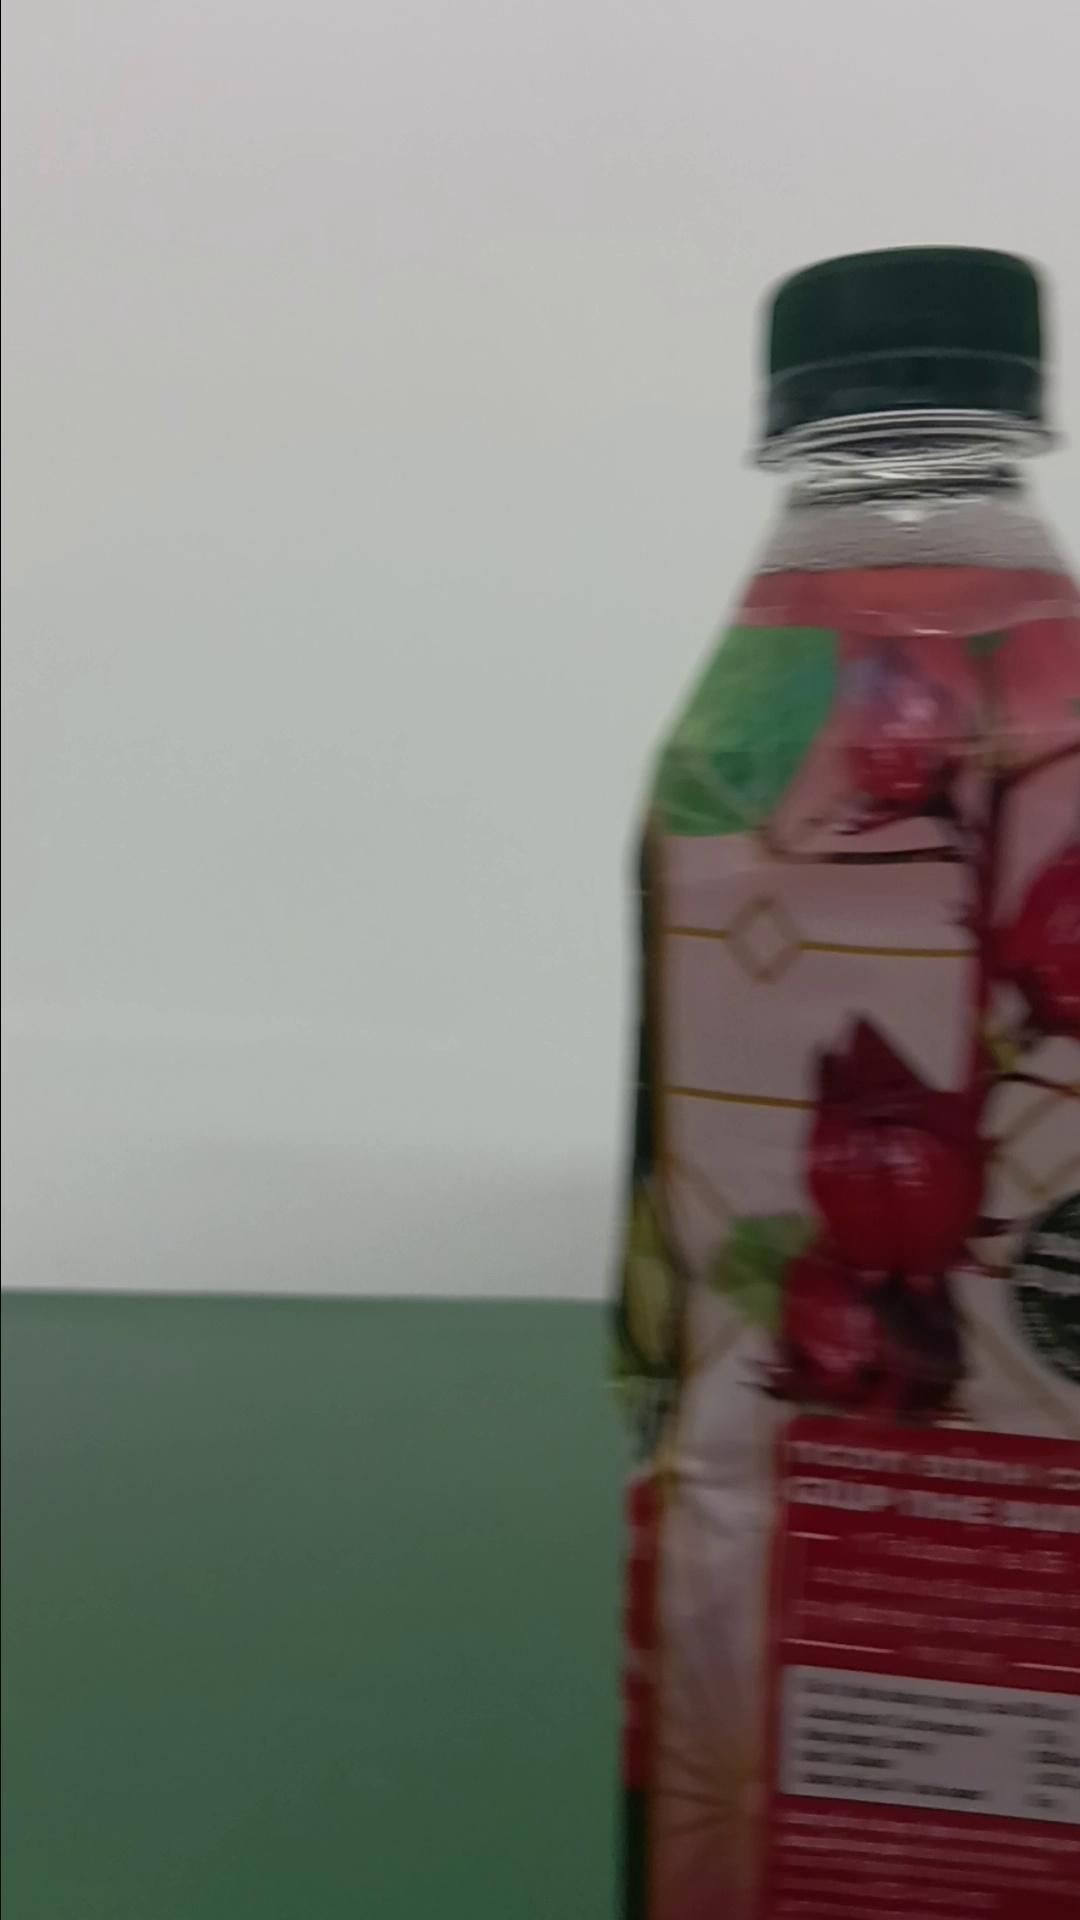loi meo sp: (607, 241, 1077, 1913)
